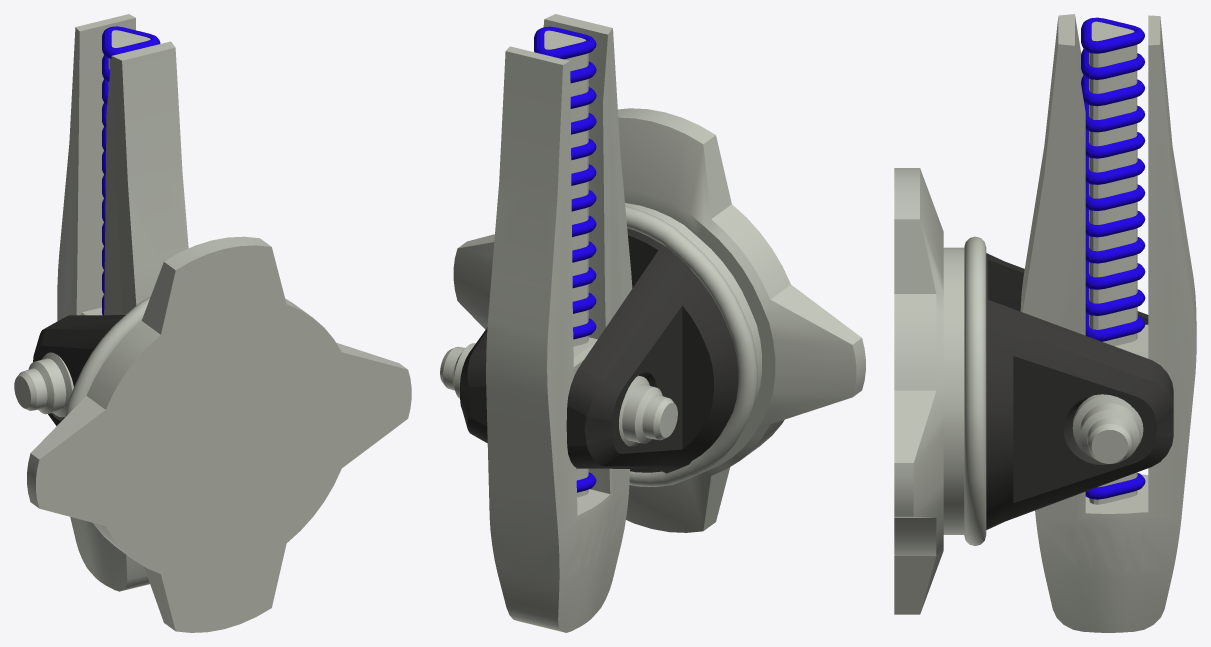
The model's file is PlasmaCanon0.fbx.
3 renders of one model, left to right at view 1: azimuth 30°, elevation 25°; view 2: azimuth 150°, elevation 25°; view 3: azimuth 270°, elevation 25°, orthographic. The views are drawn at different scales.
Visible parts, largest first — view 1: Cylinder.002, Cylinder.007, Cylinder.004, Cylinder.005, Cylinder.004_Curve, Cylinder.006_Curve; view 2: Cylinder.007, Cylinder.002, Cylinder.004, Cylinder.004_Curve, Cylinder.006_Curve, Cylinder.005, Cylinder.006; view 3: Cylinder.007, Cylinder.004, Cylinder.002, Cylinder.006_Curve, Cylinder.006, Cylinder.004_Curve, Cylinder.005, Cube.005.
Boxes of the visible parts, <box> form: Cylinder.002: <box>27,236,411,632</box>; Cylinder.007: <box>57,14,188,591</box>; Cylinder.004: <box>33,315,125,425</box>; Cylinder.005: <box>14,352,73,417</box>; Cylinder.004_Curve: <box>64,296,150,417</box>; Cylinder.006_Curve: <box>102,26,160,315</box>; Cylinder.007: <box>486,14,632,632</box>; Cylinder.002: <box>453,108,865,532</box>; Cylinder.004: <box>460,228,738,473</box>; Cylinder.004_Curve: <box>625,206,757,486</box>; Cylinder.006_Curve: <box>534,26,596,492</box>; Cylinder.005: <box>440,343,677,446</box>; Cylinder.006: <box>544,30,588,497</box>; Cylinder.007: <box>1020,14,1196,632</box>; Cylinder.004: <box>986,253,1173,529</box>; Cylinder.002: <box>894,168,964,614</box>; Cylinder.006_Curve: <box>1081,17,1145,499</box>; Cylinder.006: <box>1089,21,1137,504</box>; Cylinder.004_Curve: <box>964,236,986,545</box>; Cylinder.005: <box>1072,394,1143,463</box>; Cube.005: <box>1115,324,1148,358</box>.
Size of the model in its own units: 1669 by 2284 by 1062.
